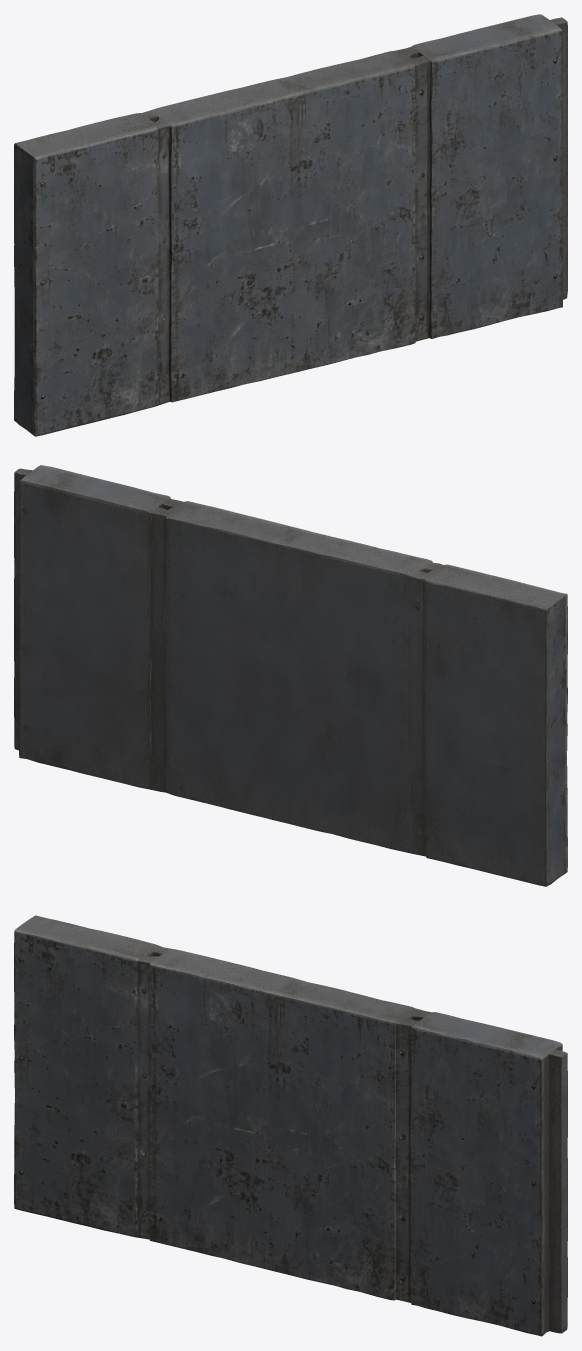
The model's file is ARCH-WALL-PAINT-lod0.glb.
3 renders of one model, top to bottom at view 1: azimuth 30°, elevation 25°; view 2: azimuth 150°, elevation 25°; view 3: azimuth 330°, elevation 25°, orthographic.
Parts seen in each view (by area): view 1: Mesh; view 2: Mesh; view 3: Mesh.
Boxes of the visible parts, x1,y1,x2,y2 form: Mesh: (14,14,567,436); Mesh: (14,465,567,886); Mesh: (14,915,567,1336).
Size of the model in its own units: 1.9 by 0.9395 by 0.1388.
Materials: 1 (1 with a texture image).
